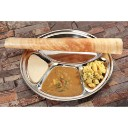dosa: (3, 31, 124, 55)
